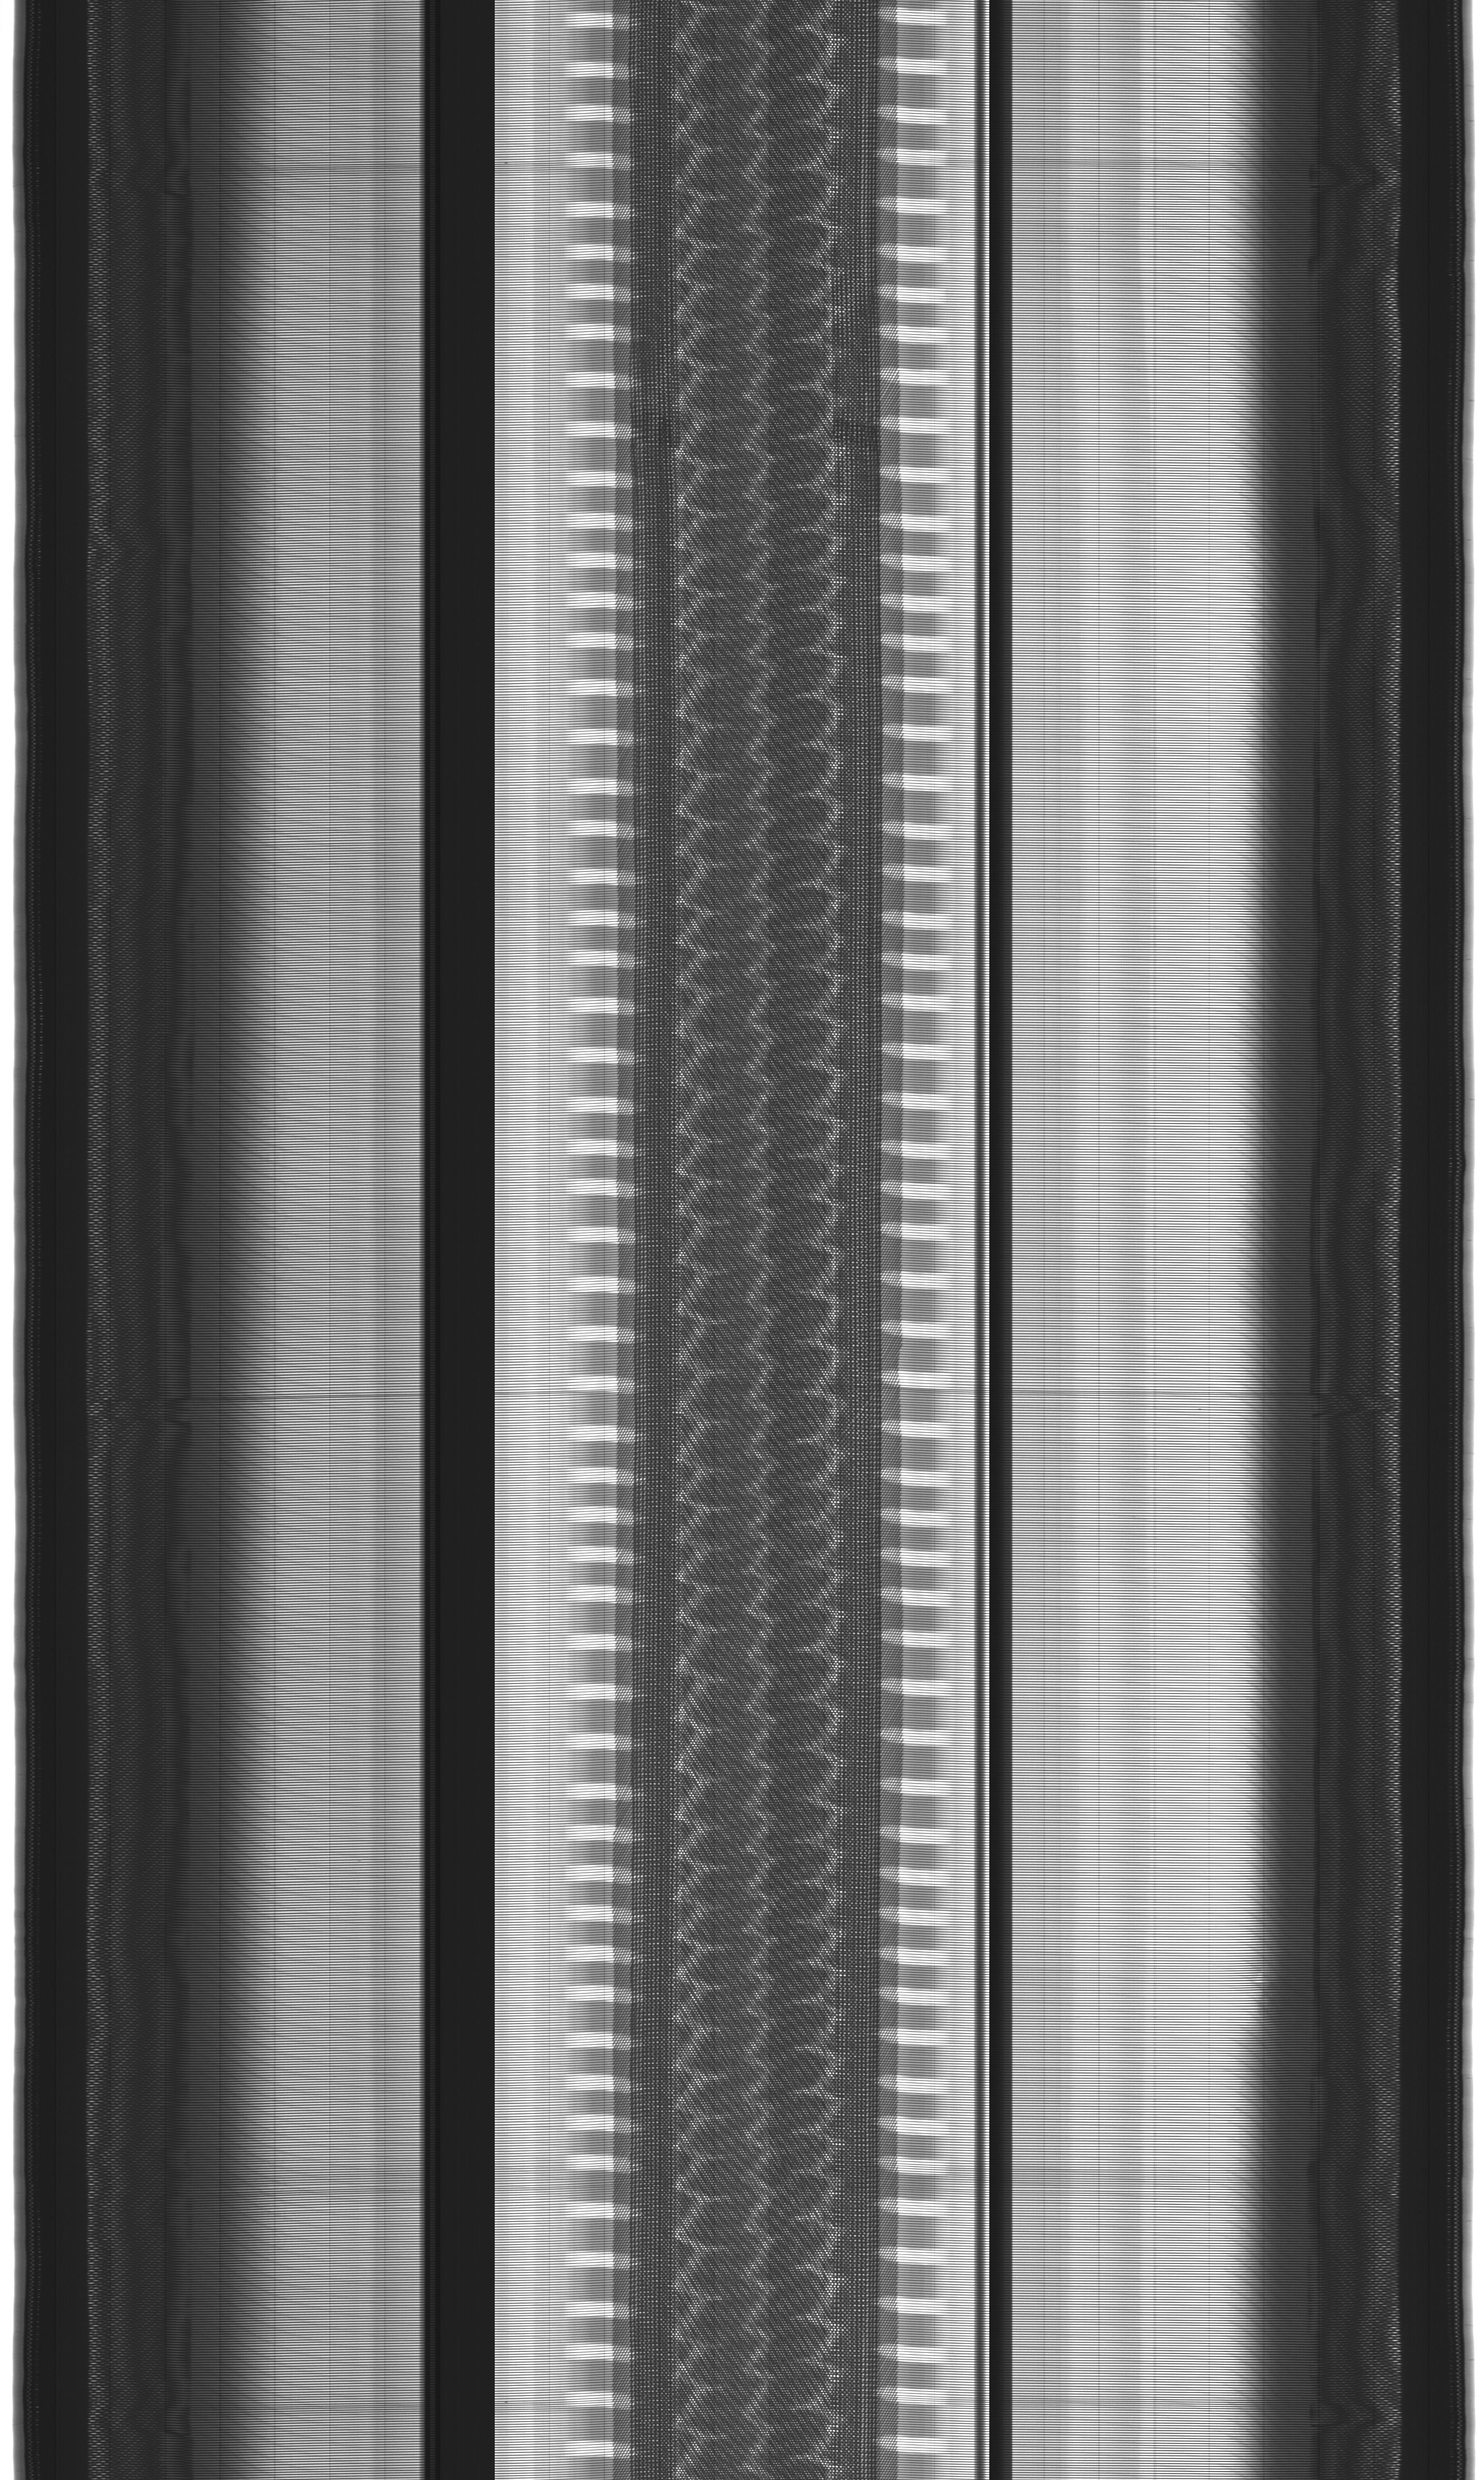72B: (1228, 1952, 1288, 2038)
